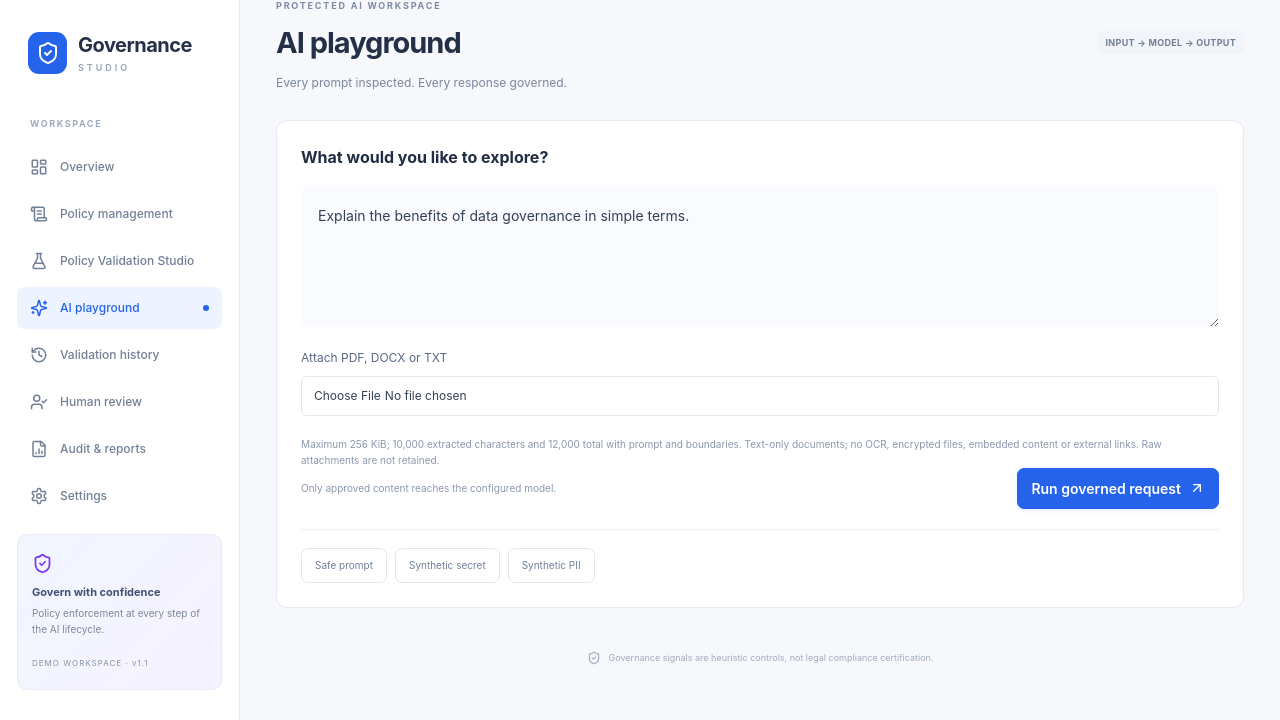
Scenario: truthful generation diagnostics › renders SUCCEEDED without implying successful release
(page scrolled)
Step 1. Click the button "Run governed request" → (1118, 488), box [1017,468,1219,509]
(page scrolled)
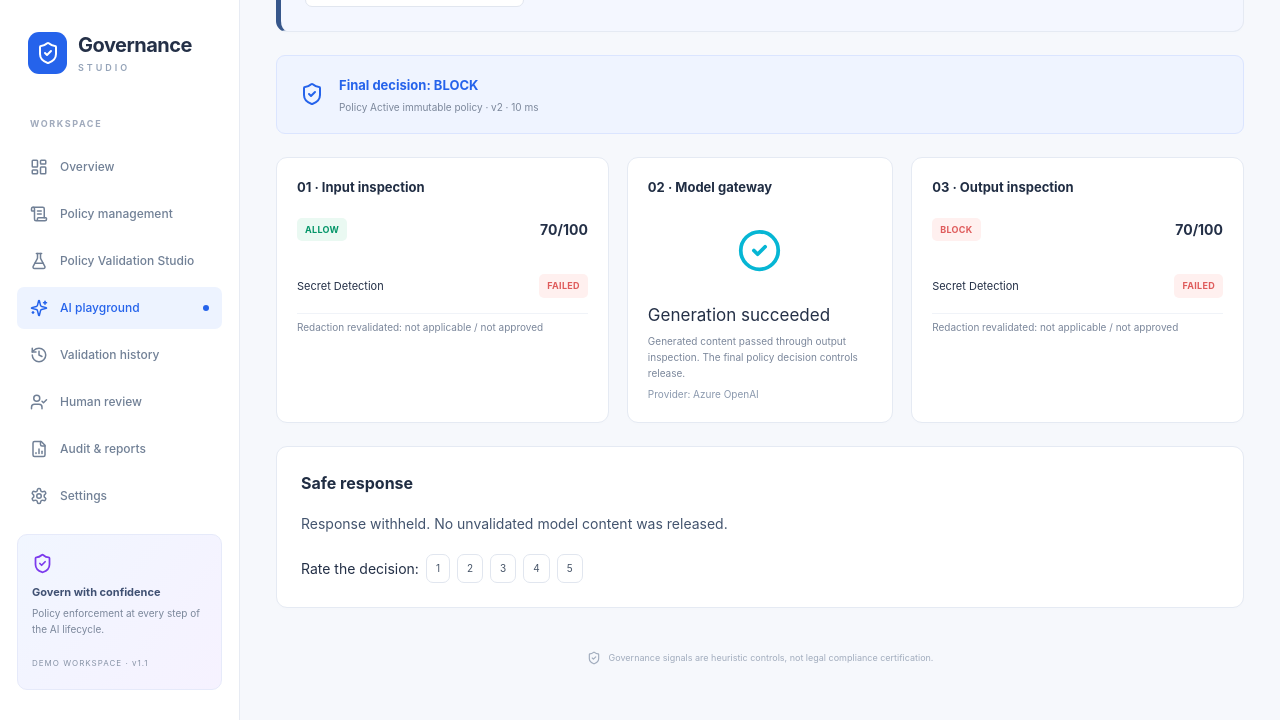
expect the heading "Generation succeeded" is shown: met, box [648,305,830,325]
expect the text "Policy Active immutable policy · v2 · 10 ms" is shown: met, box [339,99,538,115]
expect the text "Response withheld. No unvalidated model content was released." is shown: met, box [301,515,728,532]
